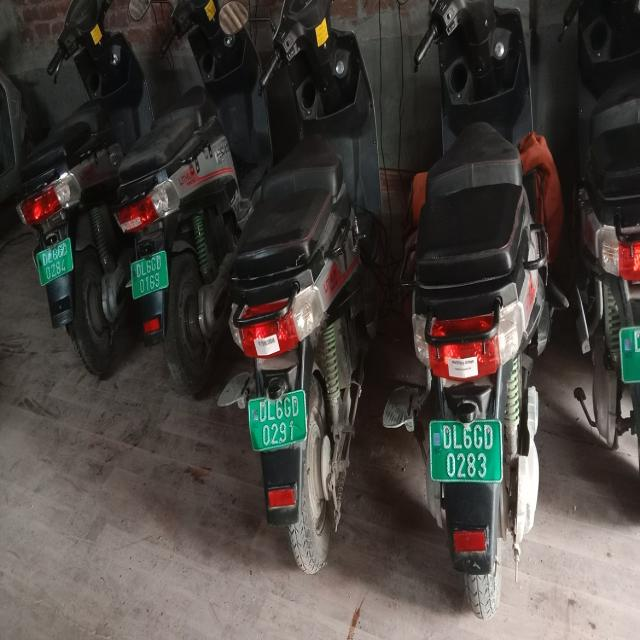plate: (425, 413, 508, 487), (246, 386, 311, 462), (126, 250, 175, 301), (34, 231, 76, 289)
